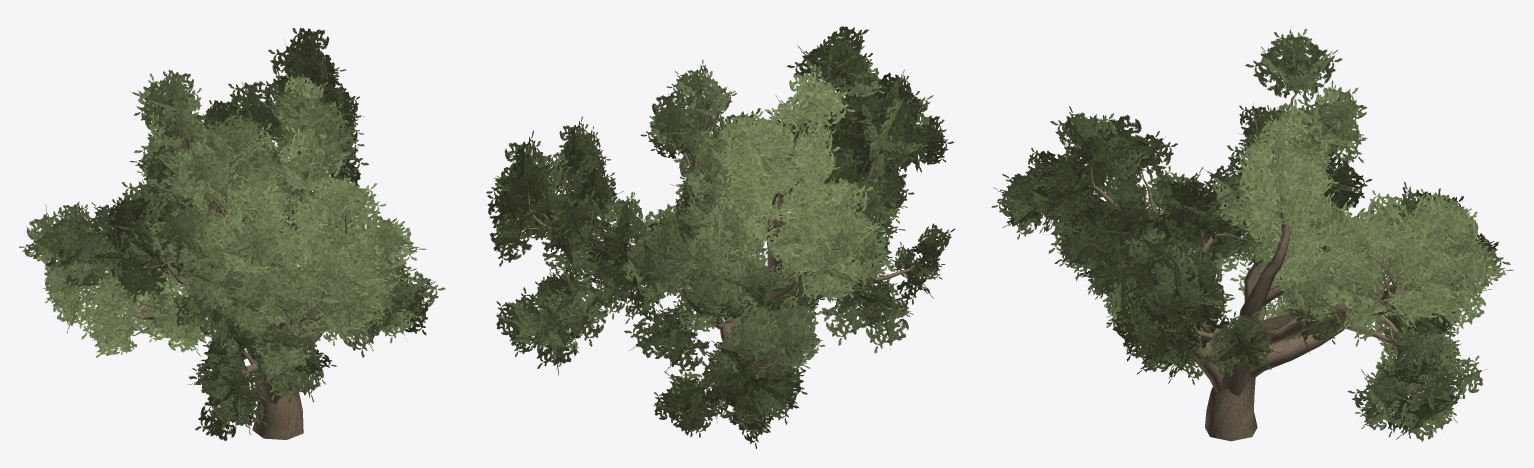
The model's file is juniper.glb.
3 renders of one model, left to right at view 1: azimuth 30°, elevation 25°; view 2: azimuth 150°, elevation 25°; view 3: azimuth 270°, elevation 25°, orthographic. The views are drawn at different scales.
Visible parts, largest first — view 1: eztree-juniper; view 2: eztree-juniper; view 3: eztree-juniper.
Boxes of the visible parts, x1,y1,x2,y2 form: eztree-juniper: (19, 27, 445, 441); eztree-juniper: (486, 26, 955, 448); eztree-juniper: (991, 26, 1513, 441).
Size of the model in its own units: 4.56 by 4.5 by 5.9.
Materials: 2 (2 with a texture image).
